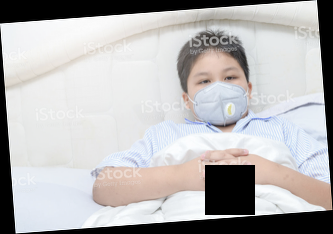with_mask: (188, 63, 249, 128)
